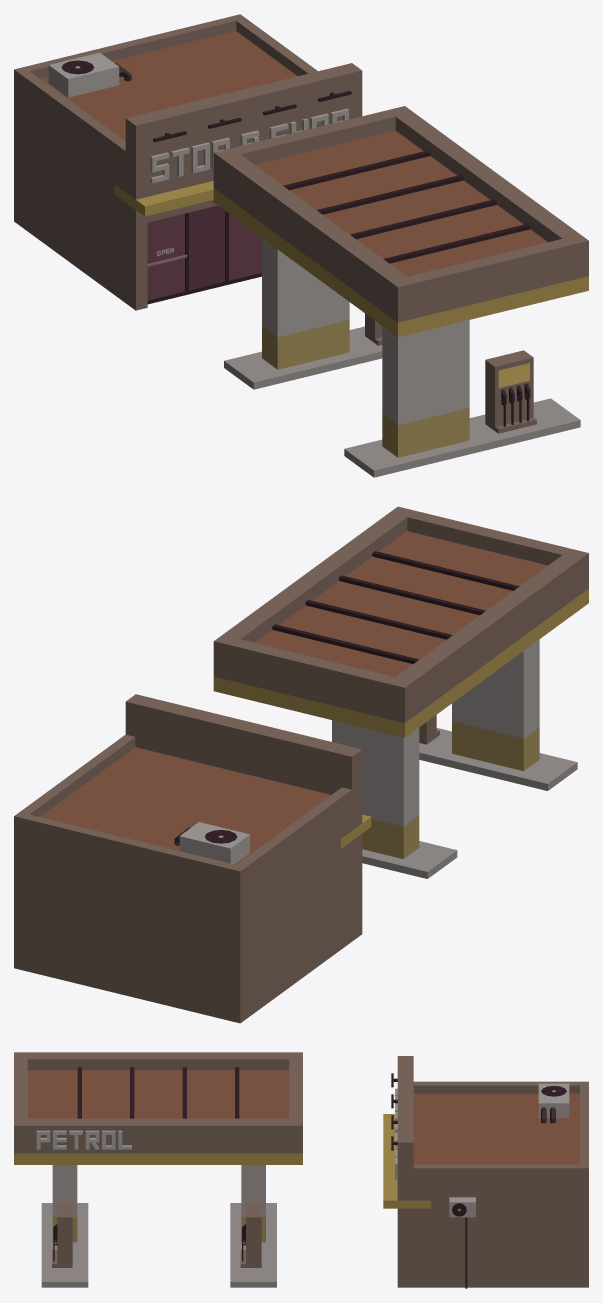
File: Building_44.fbx
3 renders of one model, top to bottom at view 1: azimuth 30°, elevation 25°; view 2: azimuth 150°, elevation 25°; view 3: azimuth 270°, elevation 25°, orthographic. The views are drawn at different scales.
Parts seen in each view (by area): view 1: Building_44; view 2: Building_44; view 3: Building_44.
Boxes of the visible parts, x1,y1,x2,y2 form: Building_44: (14,14,588,477); Building_44: (14,506,588,1023); Building_44: (14,1052,588,1288).
Size of the model in its own units: 9.84 by 7.9 by 25.99.
